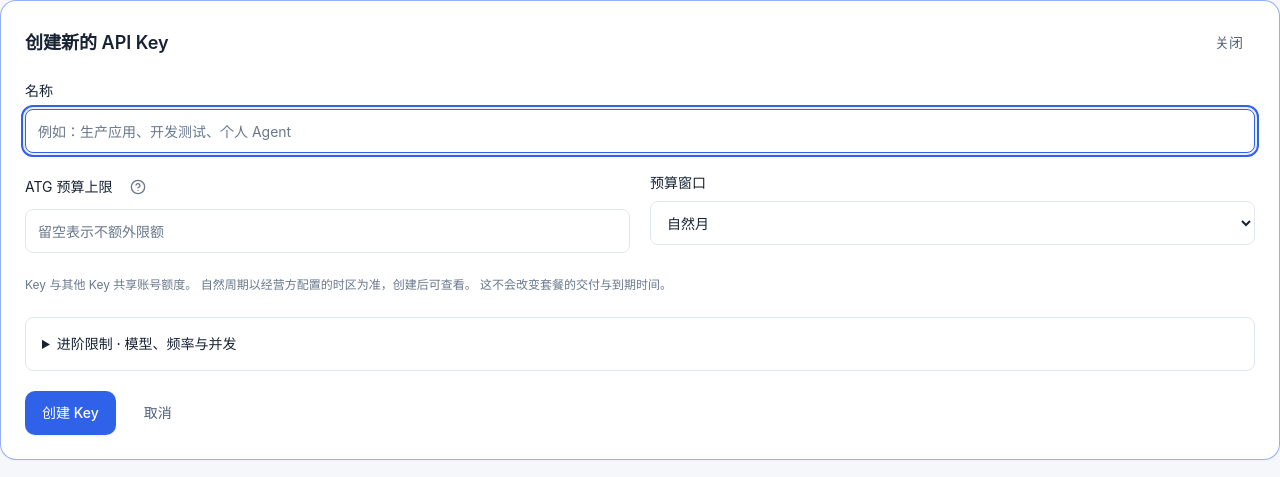
Scenario: keeps the generated Key available while explaining a pending brand API endpoint
Step 1. Type "待接入应用" into the field labelled "名称" → (640, 131), box [25,109,1255,153]
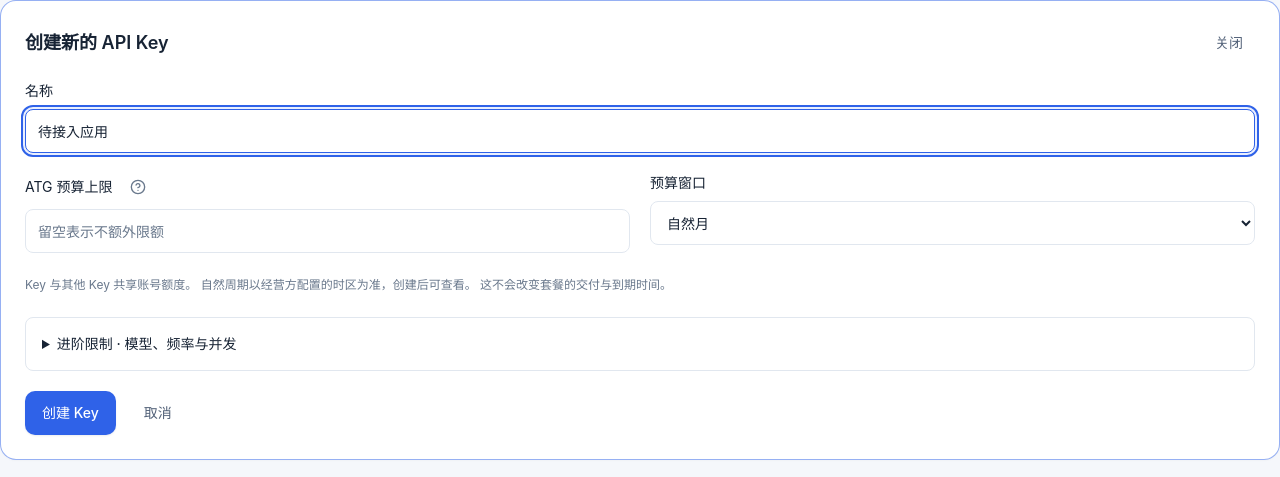
Step 2. Click the button "创建 Key" → (70, 413), box [25,391,116,435]
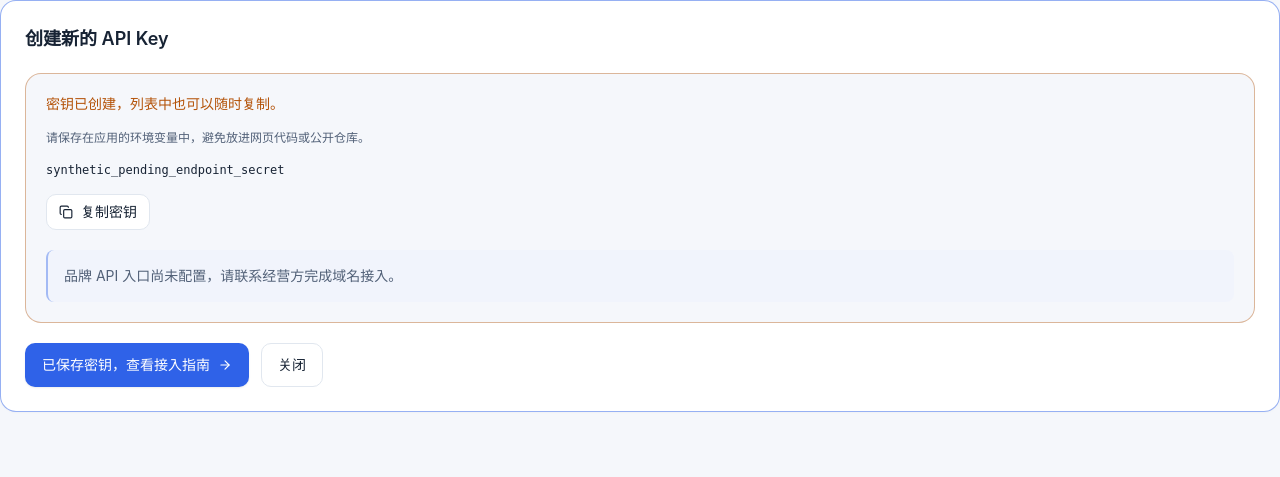
Now the text "synthetic_pending_endpoint_secret" is shown, box [46,163,284,177]
Now the text "品牌 API 入口尚未配置，请联系经营方完成域名接入。" is shown, box [46,250,1234,302]
Now the button "复制密钥" is shown, box [46,194,150,230]
